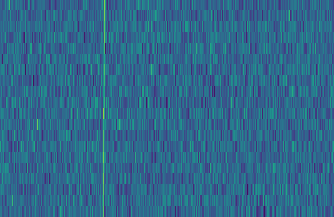signal: (97, 0, 107, 217)
